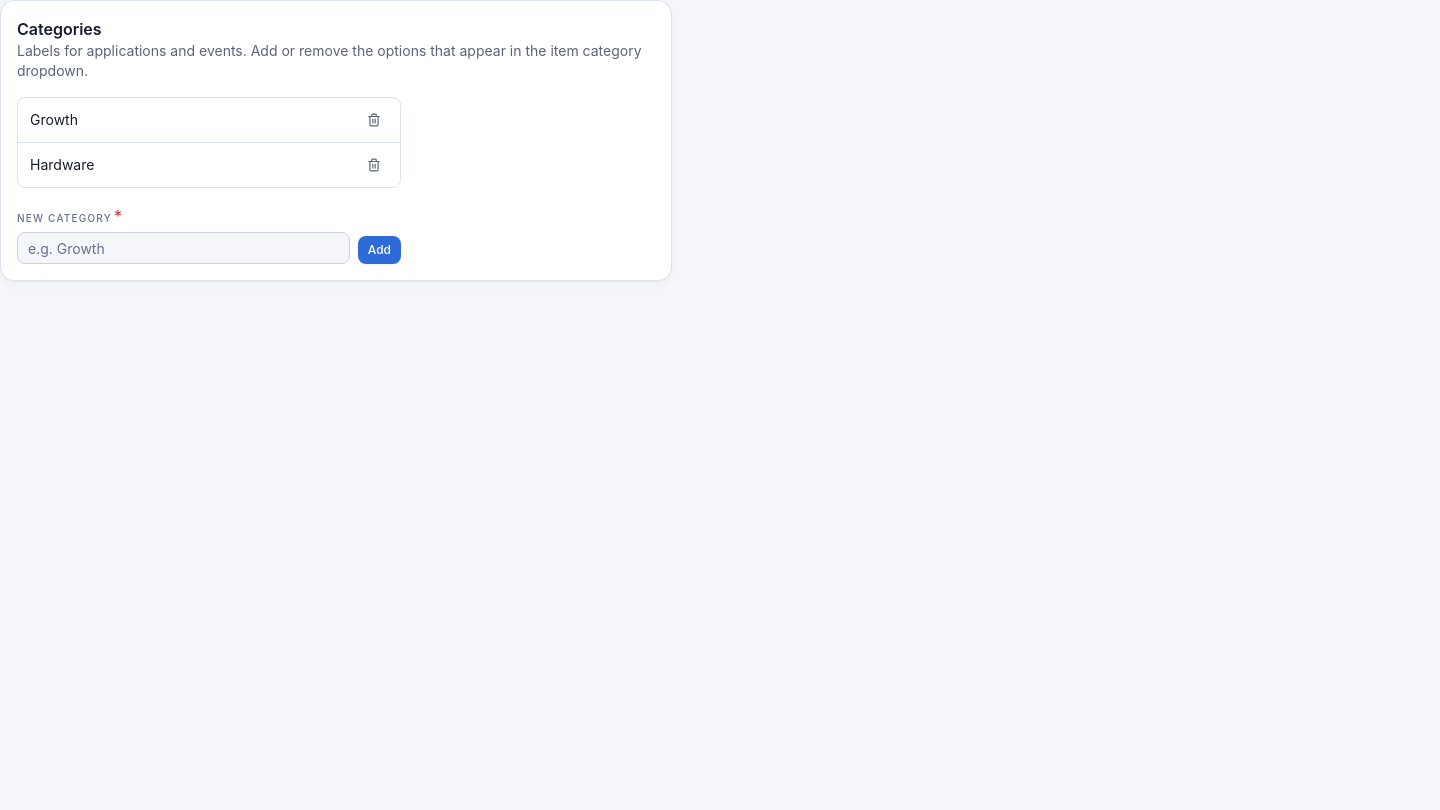
Test: <CategoriesForm> › surfaces the CATEGORY_IN_USE message in the dialog, then on the row once dismissed
The image size is (1440, 810).
Check: the text "Growth" is shown, box [30,110,78,130]
Click the button named "remove growth".
click(374, 120)  # box [360,106,388,134]
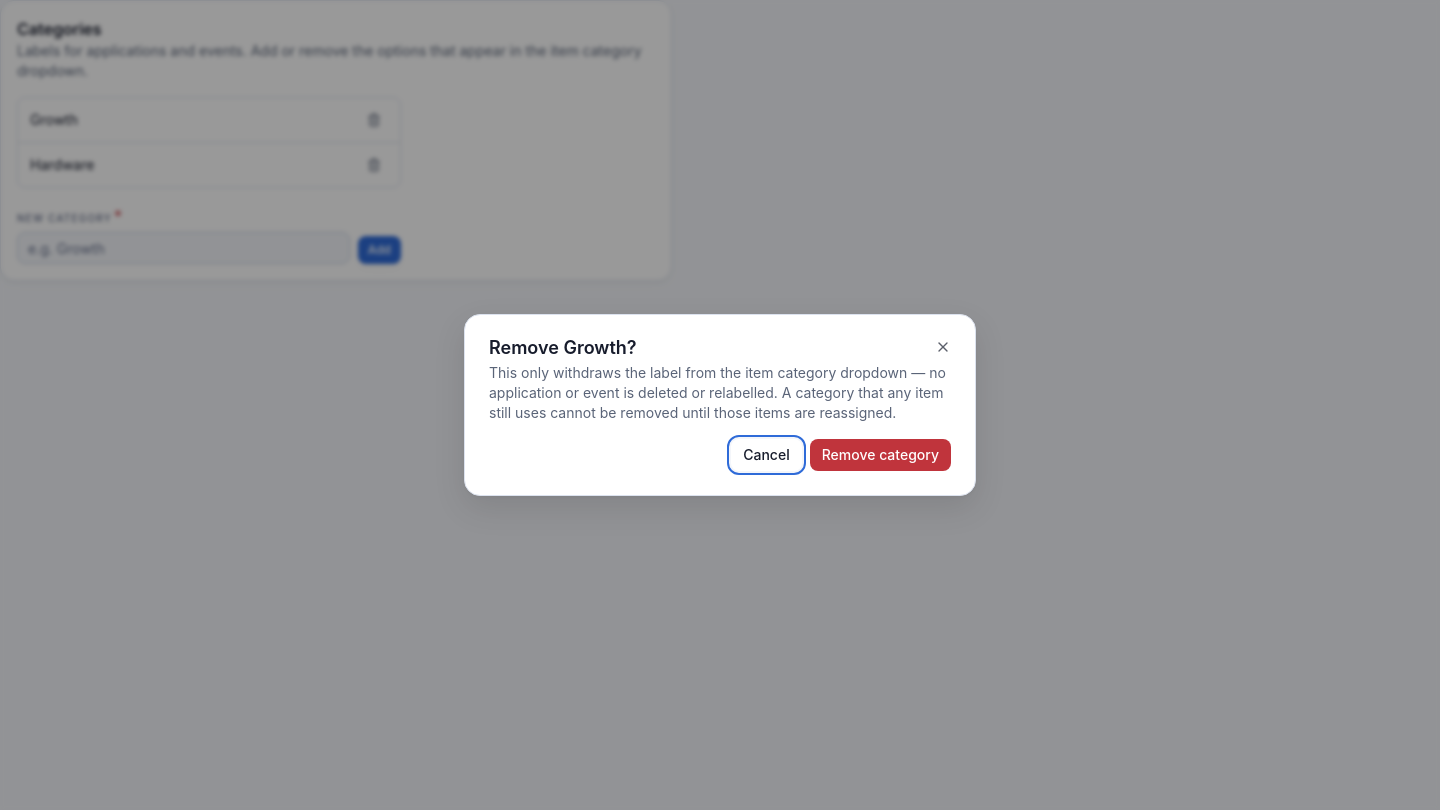
Click the button "Remove category".
click(880, 455)  # box [810,439,951,471]
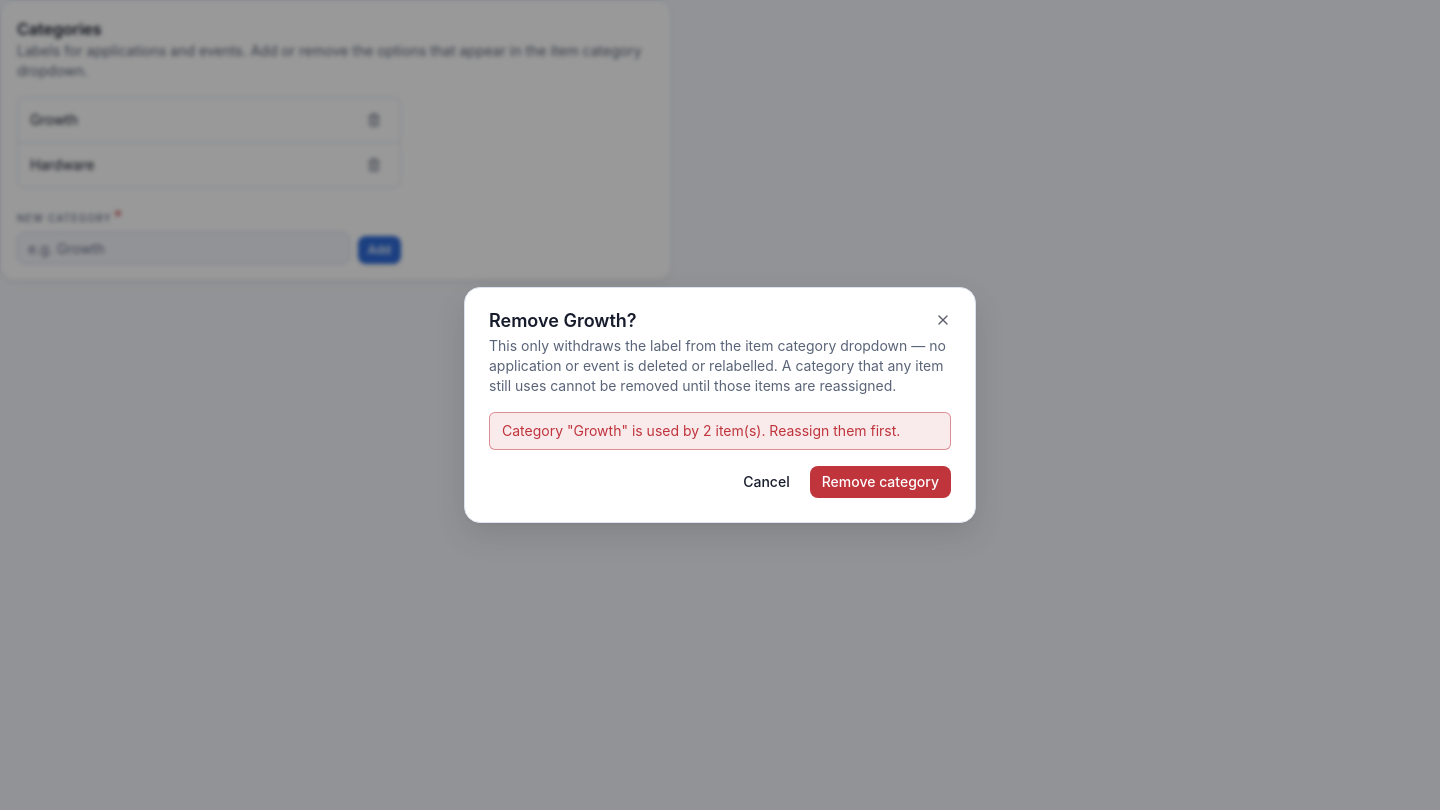
Check: the text "Category \"Growth\" is used by 2 item(s). Reassign them first." is shown, box [489,412,951,450]
// Retrying cannot help here, so the reason must survive dismissing the dialog.
Click the button "Cancel".
click(766, 482)  # box [731,466,802,498]
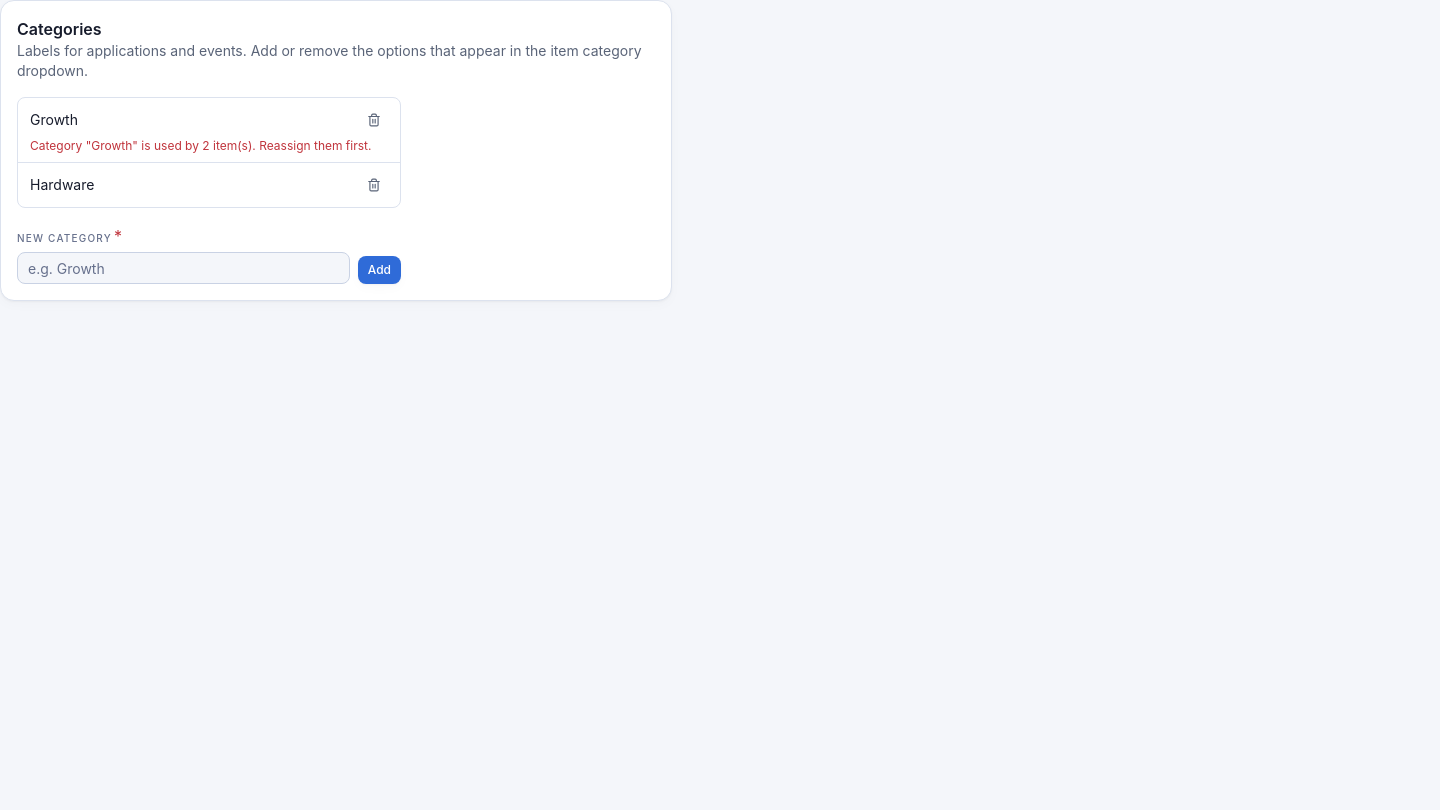
Check: the message shows "used by 2 item(s)", box [30,138,372,153]
Check: the dialog is gone
